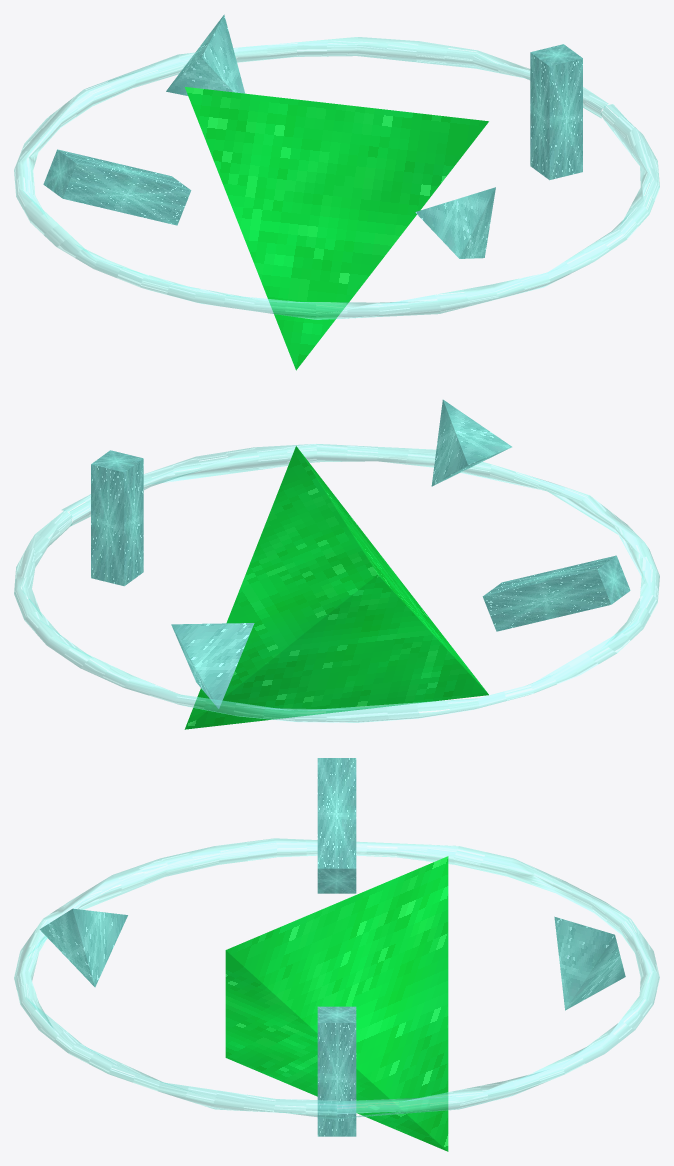
The model's file is anomaly-cluster-green.low.glb.
3 renders of one model, top to bottom at view 1: azimuth 30°, elevation 25°; view 2: azimuth 150°, elevation 25°; view 3: azimuth 270°, elevation 25°, orthographic.
Visible parts, largest first — view 1: shell, ring, orbital-0; view 2: shell, ring, orbital-0; view 3: shell, ring, orbital-0.
Boxes of the visible parts, box(x1,y1,x2,y2) form: shell: box(185, 87, 488, 370); ring: box(14, 37, 659, 319); orbital-0: box(43, 14, 582, 258); shell: box(184, 446, 488, 729); ring: box(14, 444, 659, 722); orbital-0: box(91, 399, 630, 708); shell: box(225, 856, 448, 1151); ring: box(14, 838, 659, 1119); orbital-0: box(40, 758, 625, 1136).
Size of the model in its own units: 2.7 by 0.9856 by 2.68.
Materials: 3 (3 with a texture image).
